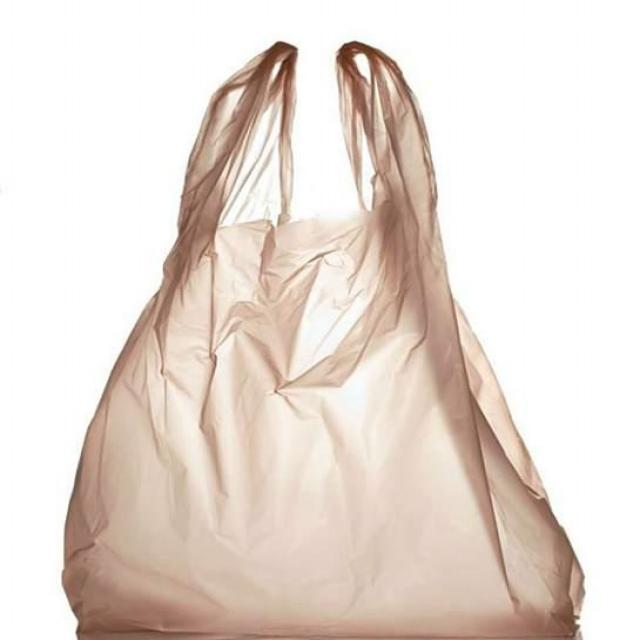plastic_bottle: (63, 41, 603, 640)
